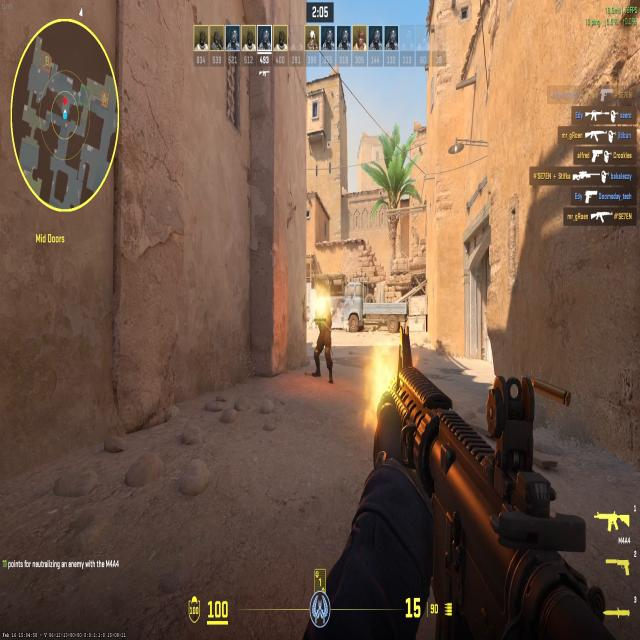player: (305, 288, 341, 388)
